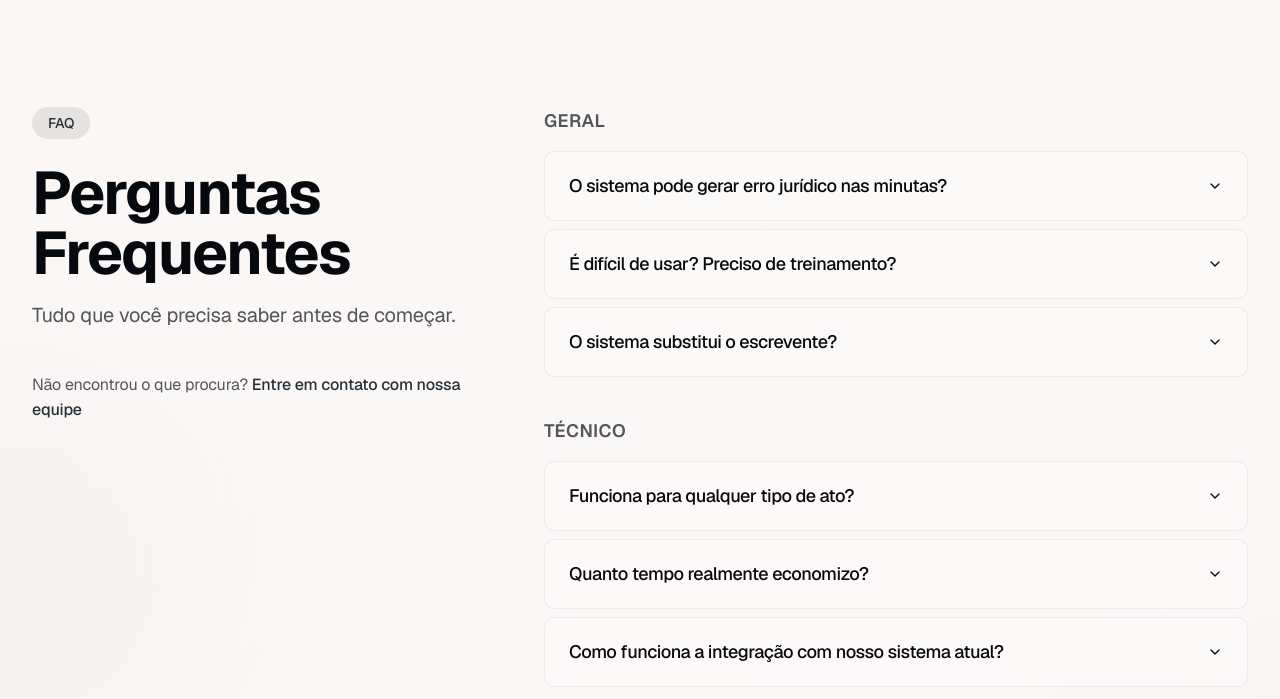
it: FAQ Component › Edge Cases › should handle long questions and answers
// Find a long question
Click the button "Como funciona a integração com nosso sistema atual?" at (896, 652), box [569, 618, 1223, 686]
(page scrolled)
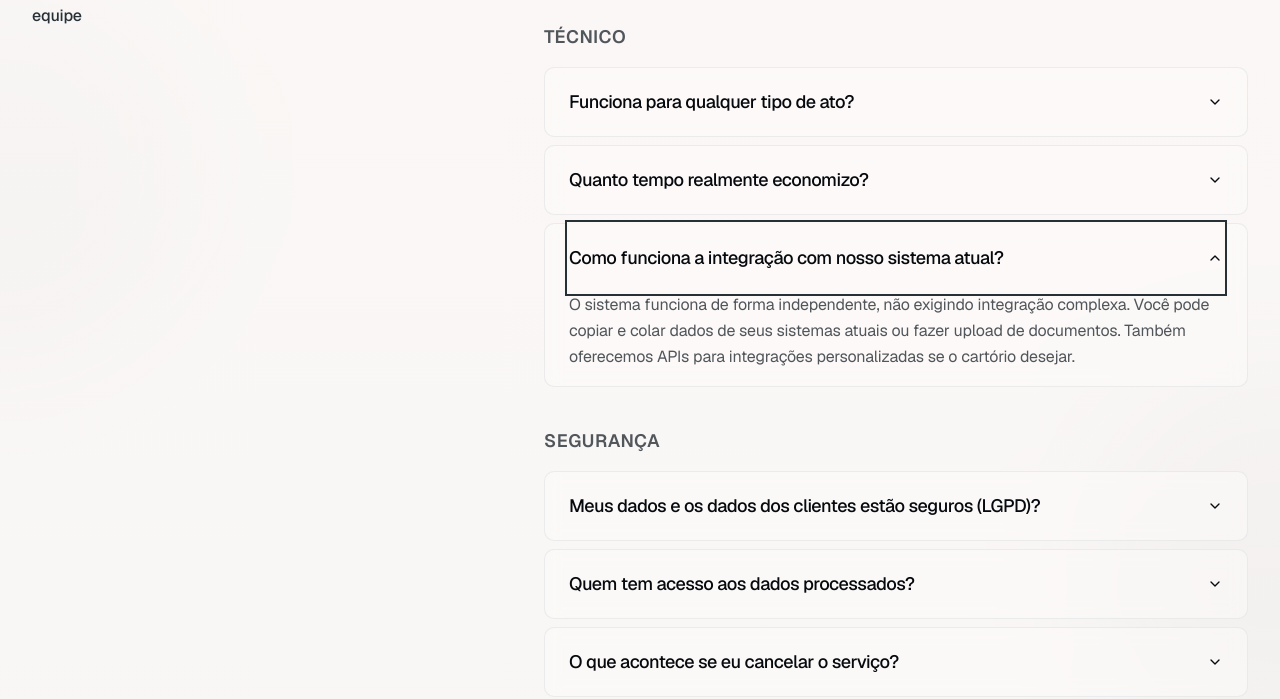
Expected: the text "O sistema funciona de forma independente" is shown, [569, 294, 1209, 367]
